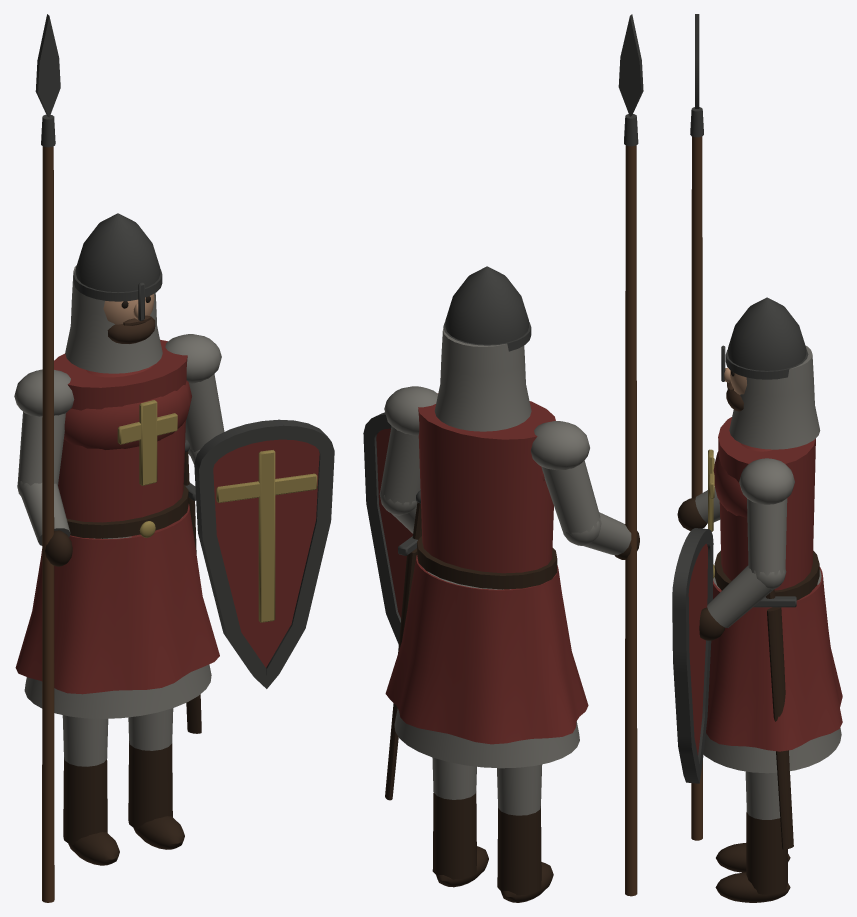
The model's file is guardia.glb.
3 views of the same model, side by side, from view 1: azimuth 30°, elevation 25°; view 2: azimuth 150°, elevation 25°; view 3: azimuth 270°, elevation 25° (orthographic). The views are drawn at different scales.
Visible parts, largest first — view 1: GuardiaCuerpo, GuardiaCabeza; view 2: GuardiaCuerpo, GuardiaCabeza; view 3: GuardiaCuerpo, GuardiaCabeza.
Part boxes in pixels (<box>): GuardiaCuerpo: <box>14,14,334,902</box>; GuardiaCabeza: <box>65,213,162,373</box>; GuardiaCuerpo: <box>363,14,643,902</box>; GuardiaCabeza: <box>434,266,531,431</box>; GuardiaCuerpo: <box>672,14,842,902</box>; GuardiaCabeza: <box>721,297,820,449</box>.
Bounding box in the file's own units: 0.8823 × 2.6 × 0.4877.
